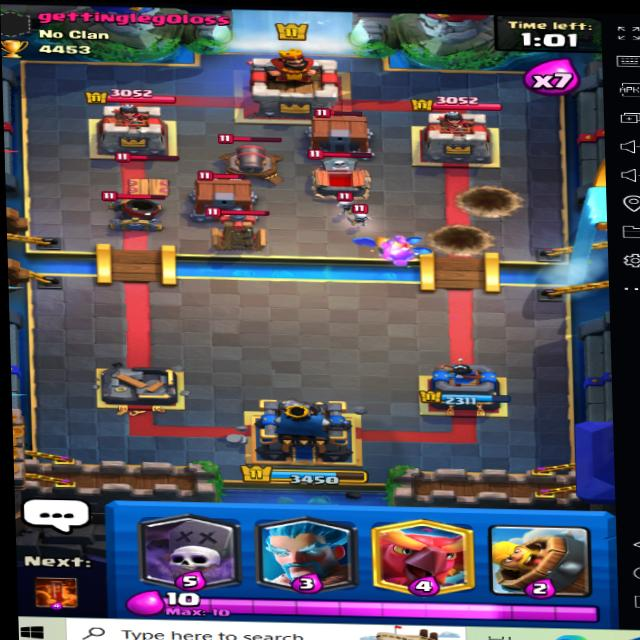cannon: (210, 129, 297, 188)
goblin-cage: (174, 169, 267, 226), (297, 104, 379, 156)
mortar: (96, 185, 169, 237)
skeleton: (333, 191, 361, 214), (348, 202, 373, 227)
tesla: (205, 205, 277, 252)
tesla-closed: (113, 144, 181, 200)
tombstone: (306, 146, 378, 196)
